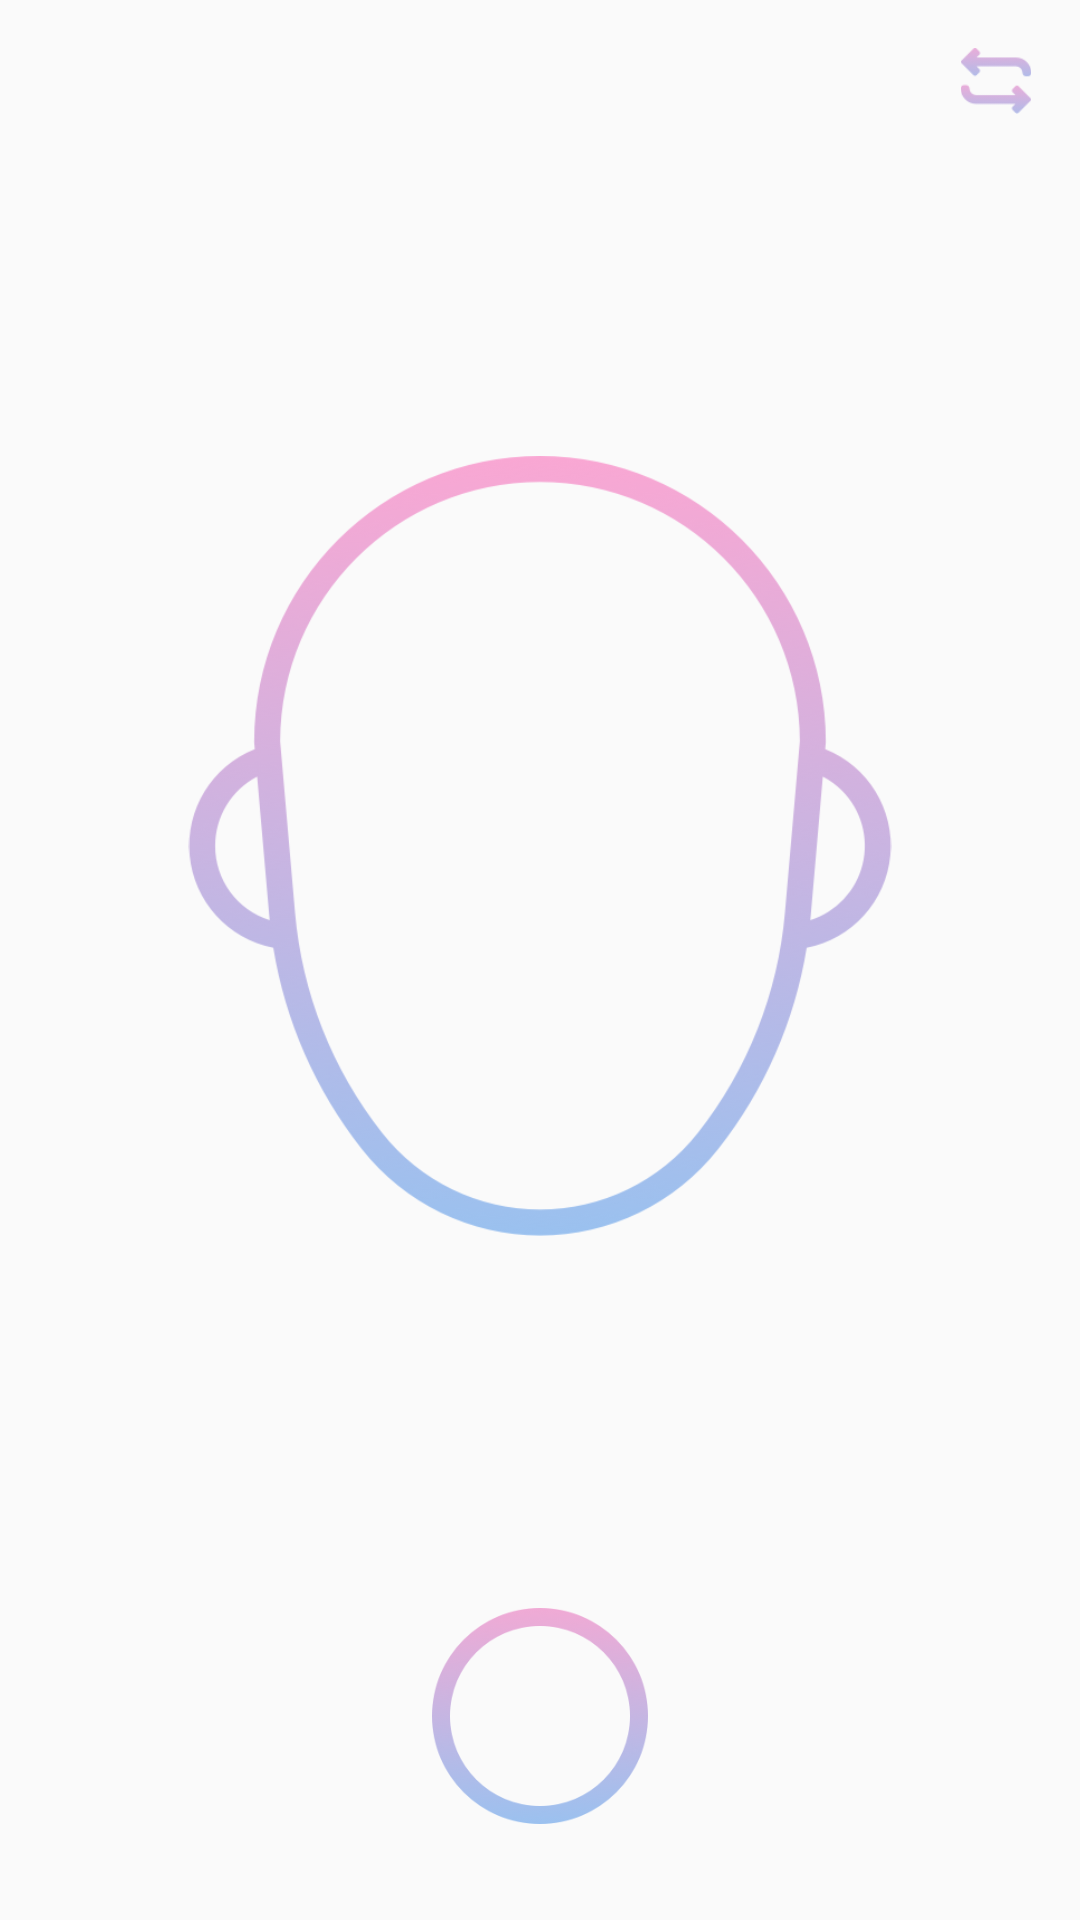

Named icons in this screenshot (1080px x 1920px) and their centers, (x,y):
switch camera: (996,81)
take photo: (540,1716)
